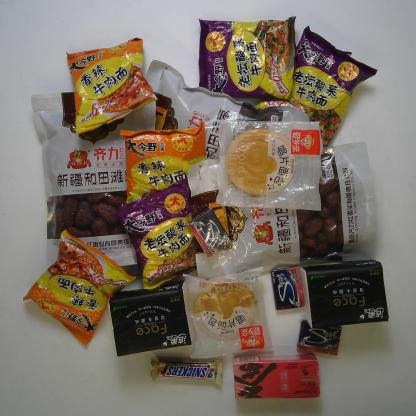Chocolate: (150, 356, 224, 384)
Dessert: (215, 121, 322, 211), (181, 267, 275, 357)
Dried Food: (110, 60, 310, 228), (187, 142, 379, 282), (30, 92, 157, 270)
Gum: (187, 207, 232, 258), (296, 318, 342, 355), (270, 266, 306, 310)
Instant Drink: (232, 355, 320, 399)
Instant Noodles: (24, 228, 136, 346), (272, 26, 377, 150), (118, 178, 210, 289), (120, 121, 210, 227), (65, 37, 158, 135), (198, 16, 295, 102)
Tissue: (107, 280, 196, 356), (300, 260, 388, 328)
